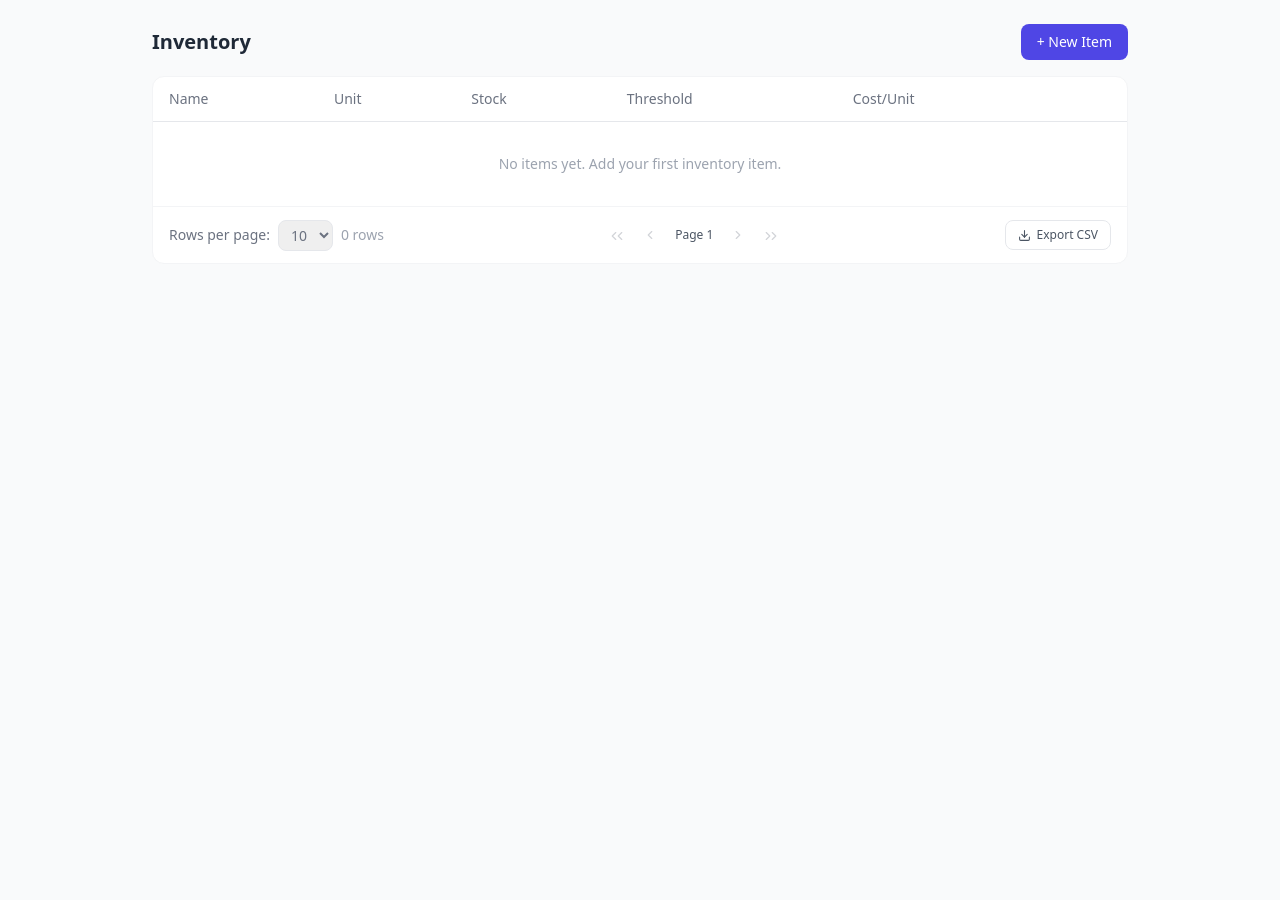
it: InventoryList › opens Add Item modal on button click
What coordinates should you click on to do the following:
click the button with aria-label "add item"
I would click on:
 (1074, 42)
Its box is [1021,24,1128,60].
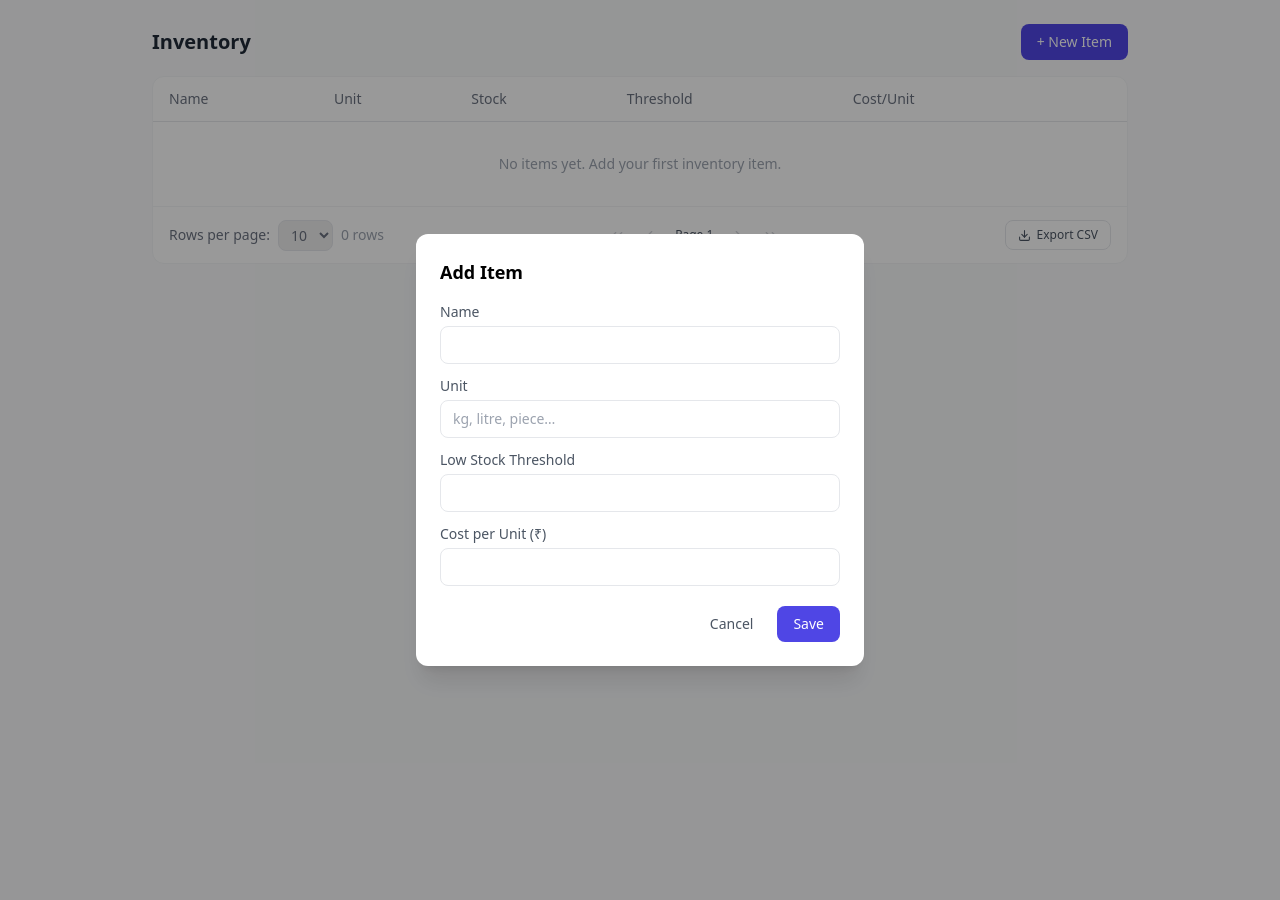
Check: the heading "Add Item" is shown, box [440,260,523,284]
